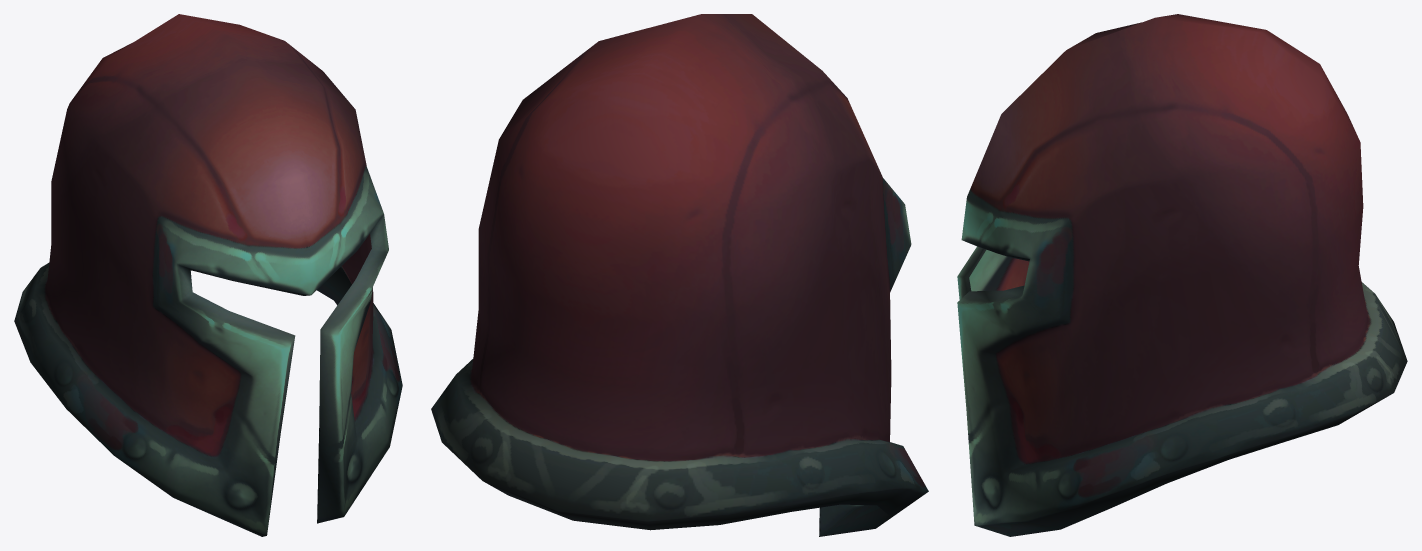
File: NewbieWarrior_Helmet.fbx
3 renders of one model, left to right at view 1: azimuth 30°, elevation 25°; view 2: azimuth 150°, elevation 25°; view 3: azimuth 270°, elevation 25°, orthographic. The views are drawn at different scales.
Parts seen in each view (by area): view 1: NewbieWarrior_Helmet; view 2: NewbieWarrior_Helmet; view 3: NewbieWarrior_Helmet.
Part boxes in pixels (<box>): NewbieWarrior_Helmet: <box>14,14,402,536</box>; NewbieWarrior_Helmet: <box>431,14,928,536</box>; NewbieWarrior_Helmet: <box>957,14,1407,536</box>.
Size of the model in its own units: 23.53 by 30.63 by 24.8.
